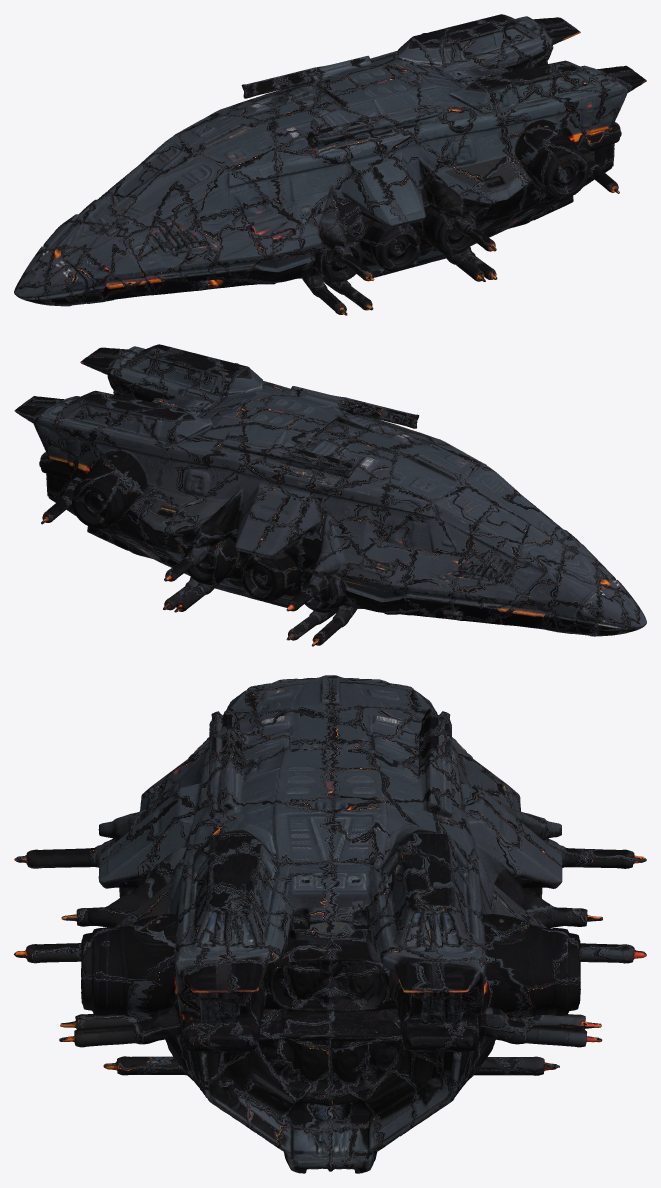
The model's file is enemy_cruiser_hive_sentinel_lod0.glb.
3 views of the same model, one above another, from view 1: azimuth 30°, elevation 25°; view 2: azimuth 150°, elevation 25°; view 3: azimuth 270°, elevation 25° (orthographic). The views are drawn at different scales.
Parts seen in each view (by area): view 1: mesh; view 2: mesh; view 3: mesh.
Part boxes in pixels (left/top/right/bottom): mesh: left=14, top=14, right=646, bottom=315; mesh: left=14, top=344, right=646, bottom=646; mesh: left=14, top=675, right=646, bottom=1173.
Bounding box in the file's own units: 1.9 × 0.5707 × 1.11.
1 material, 1 textured.
